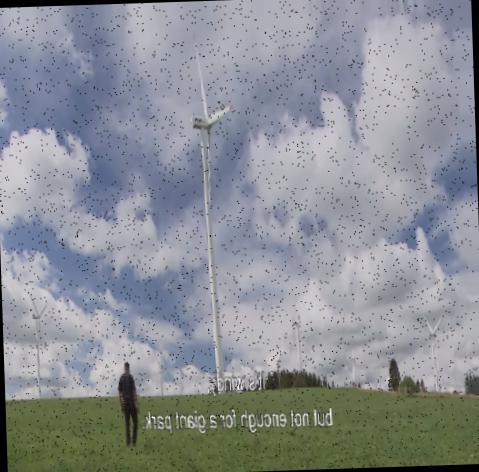wind turbine: (190, 49, 233, 377)
